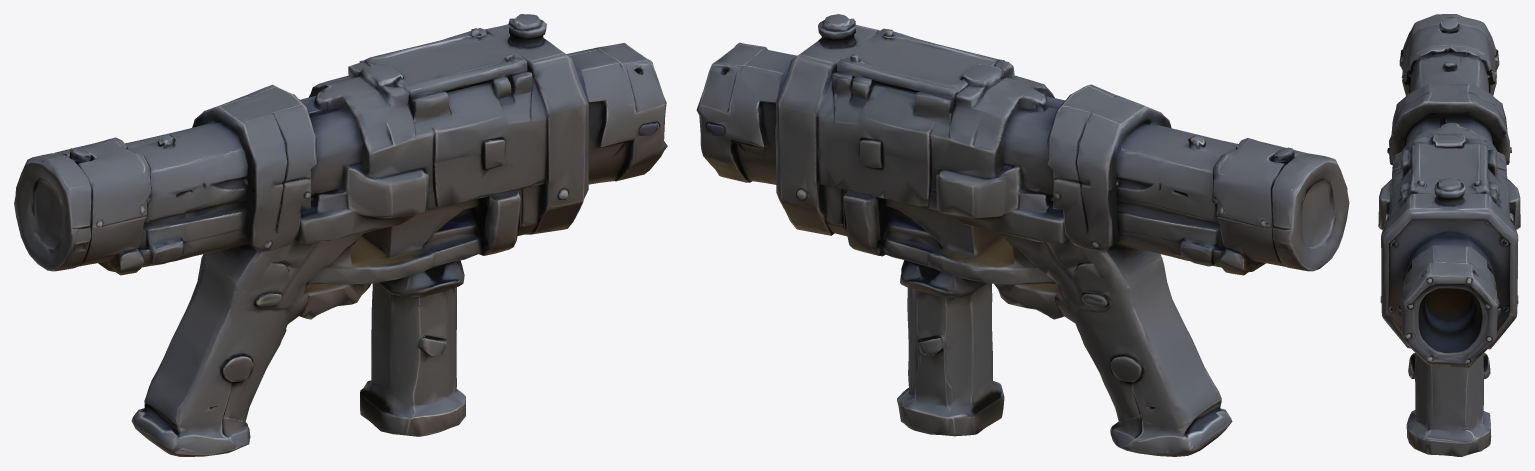
The model's file is autocannon_mk1.glb.
The picture shows the model from 3 angles, left to right: view 1: azimuth 30°, elevation 25°; view 2: azimuth 150°, elevation 25°; view 3: azimuth 270°, elevation 25°; orthographic projection. The views are drawn at different scales.
Visible parts, largest first — view 1: tripo_node_8f49e5ea-fb23-43ef-a051-137a2d46c9b4; view 2: tripo_node_8f49e5ea-fb23-43ef-a051-137a2d46c9b4; view 3: tripo_node_8f49e5ea-fb23-43ef-a051-137a2d46c9b4.
Boxes of the visible parts, x1=… form: tripo_node_8f49e5ea-fb23-43ef-a051-137a2d46c9b4: x1=14, y1=14, x2=667, y2=456; tripo_node_8f49e5ea-fb23-43ef-a051-137a2d46c9b4: x1=696, y1=14, x2=1349, y2=456; tripo_node_8f49e5ea-fb23-43ef-a051-137a2d46c9b4: x1=1378, y1=14, x2=1520, y2=456.
Bounding box in the file's own units: 1 × 0.5901 × 0.2493.
1 material, 1 textured.
